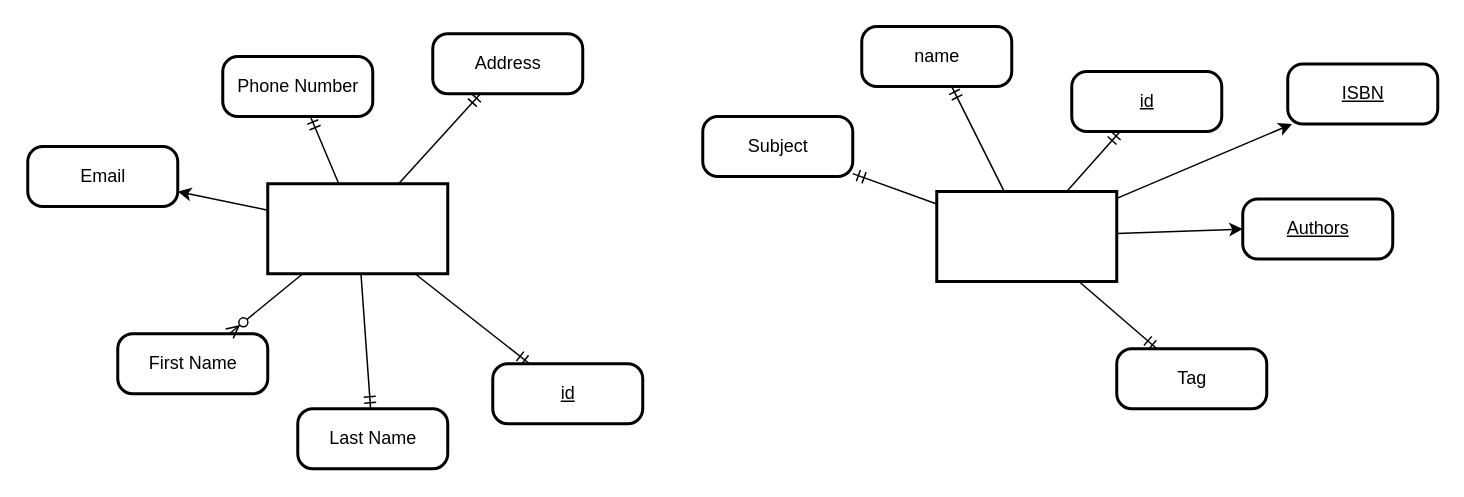
Some shapes in this 1464 by 497 pixel diagram are drawn without their labels. Here are the shapes that lost their labels. From the top down, the box of each, then its label:
(266, 182, 448, 274): User
(934, 189, 1118, 282): Book
